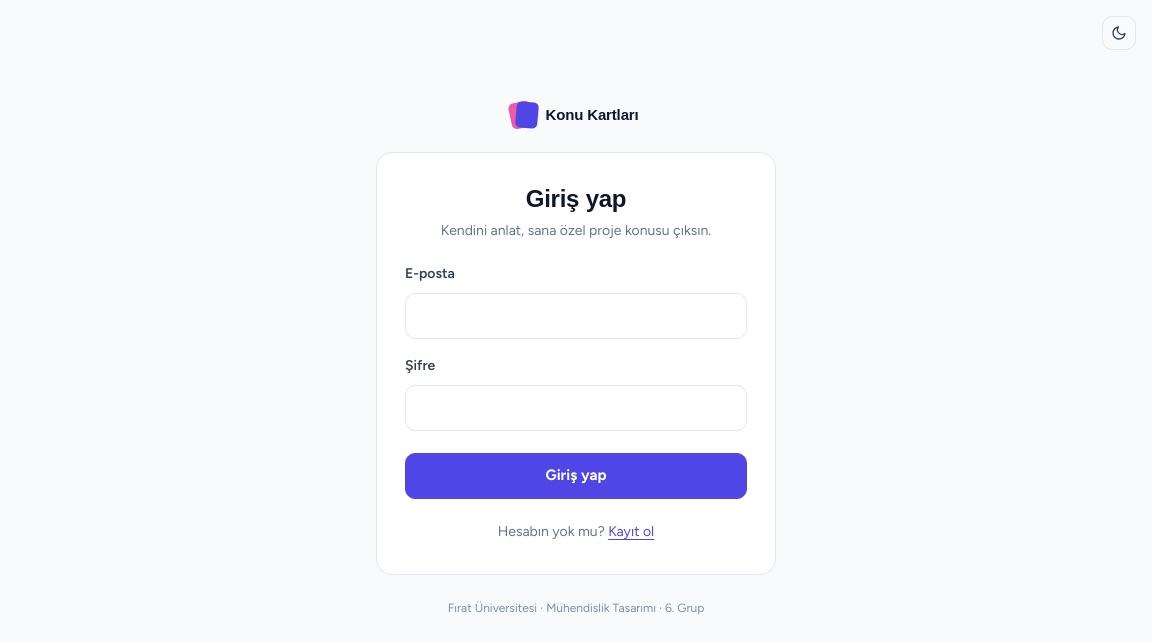
it: Giriş › doğru girişte jetonu saklar ve "Seni tanıyalım"a geçer
Type " ayse@ornek.com " into the field labelled "E-posta". click: (576, 316)
box: [405,293,747,339]
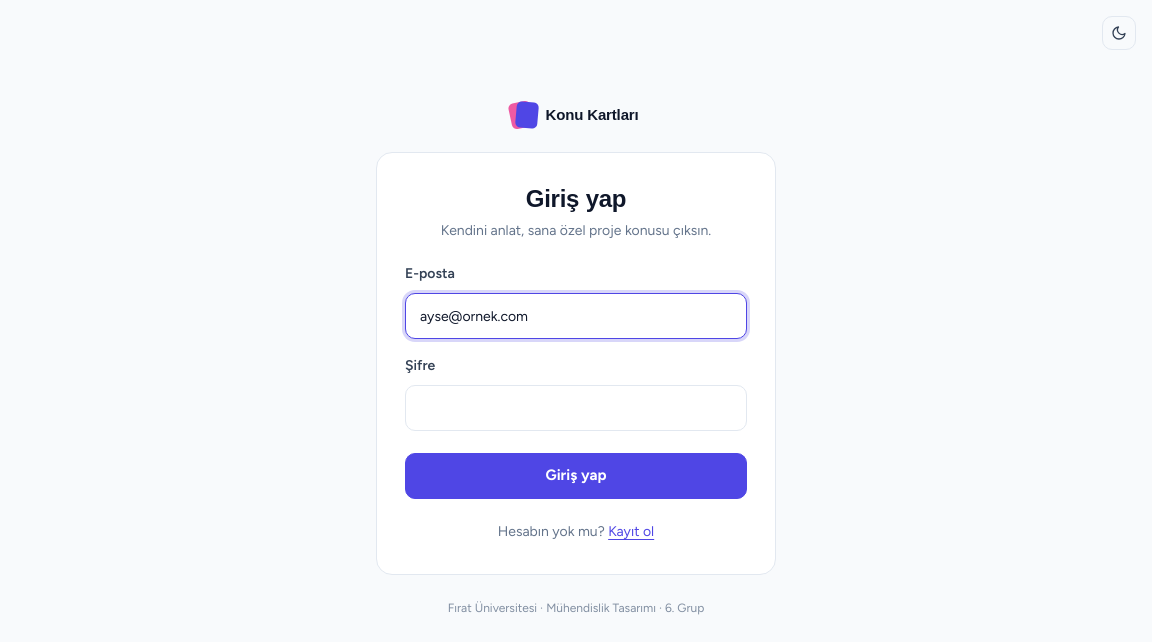
Type "gizli123" into the password field labelled "Şifre". click: (576, 408)
box: [405,385,747,431]
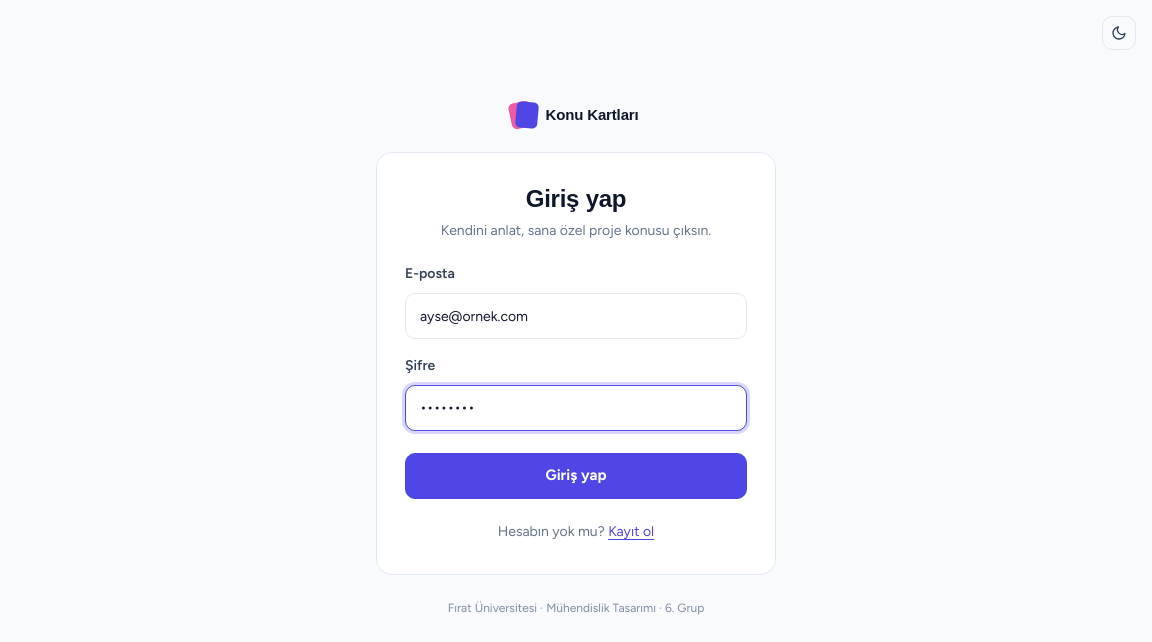
Click the button "Giriş yap". click: (576, 476)
box: [405,453,747,499]
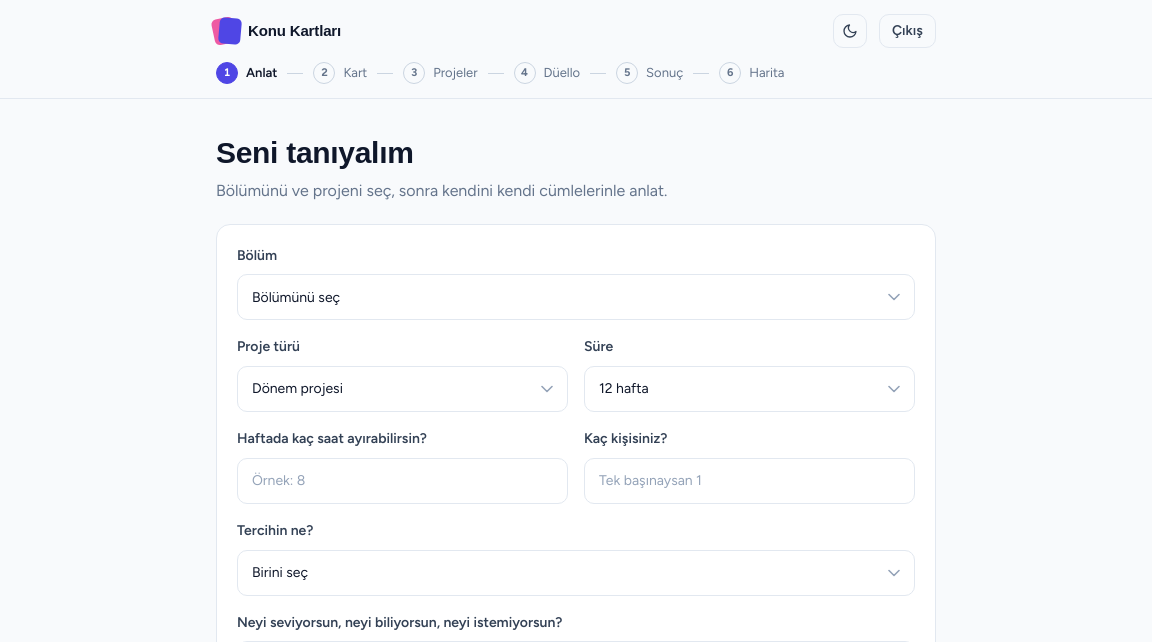
Expected: the heading "Seni tanıyalım" is shown, [216,136,414,169]
